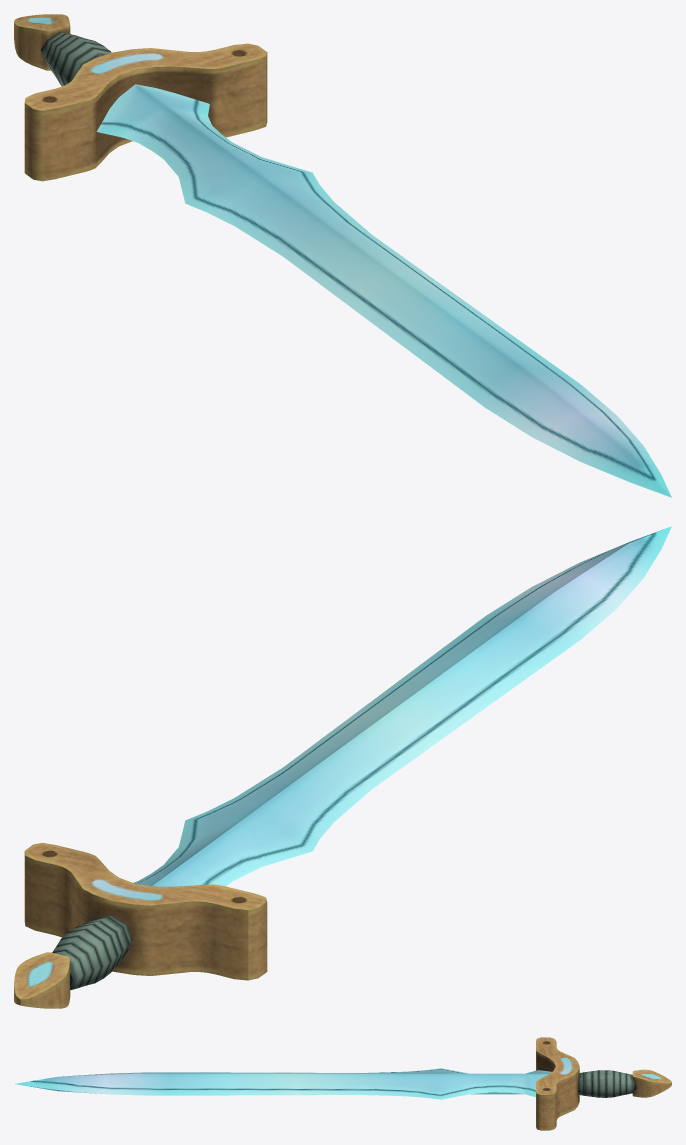
The model's file is sb_obj_weapon009_MithrilSword.fbx.
The picture shows the model from 3 angles, top to bottom: view 1: azimuth 30°, elevation 25°; view 2: azimuth 150°, elevation 25°; view 3: azimuth 270°, elevation 25°; orthographic projection. The views are drawn at different scales.
Parts seen in each view (by area): view 1: sb_obj_weapon009_MithrilSword; view 2: sb_obj_weapon009_MithrilSword; view 3: sb_obj_weapon009_MithrilSword.
Boxes of the visible parts, bbox=[...] form: sb_obj_weapon009_MithrilSword: bbox=[14, 14, 671, 497]; sb_obj_weapon009_MithrilSword: bbox=[14, 526, 671, 1008]; sb_obj_weapon009_MithrilSword: bbox=[15, 1037, 671, 1130].
Size of the model in its own units: 0.143 by 0.0412 by 0.6901.
